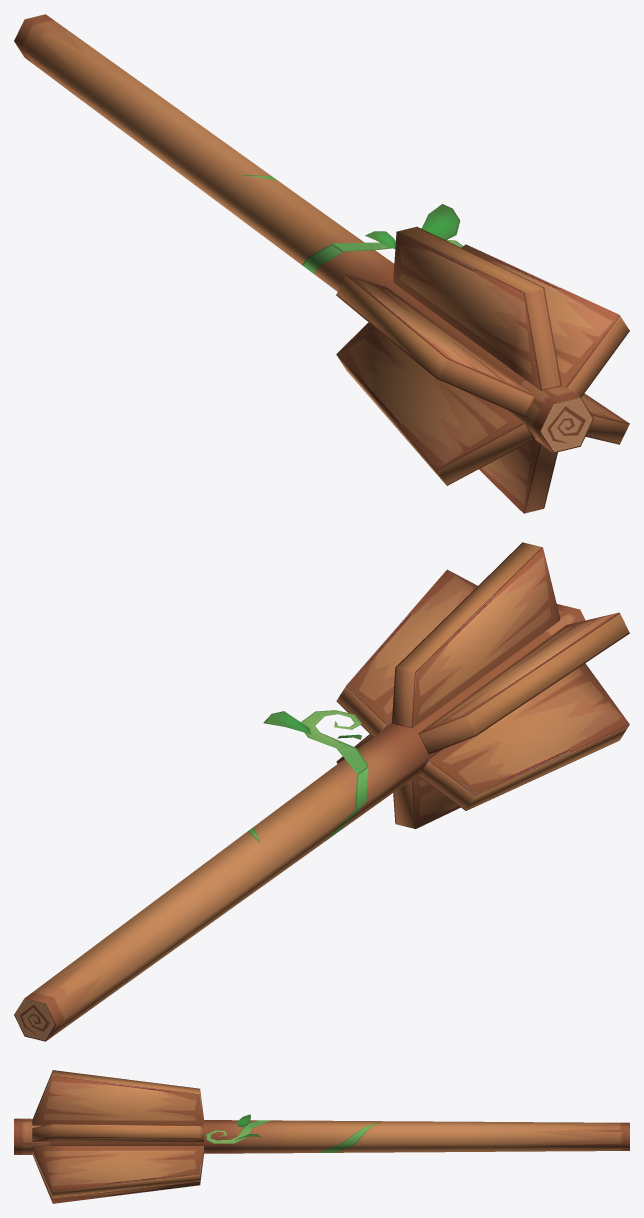
File: mace0014.fbx
The picture shows the model from 3 angles, top to bottom: view 1: azimuth 30°, elevation 25°; view 2: azimuth 150°, elevation 25°; view 3: azimuth 270°, elevation 25°; orthographic projection. The views are drawn at different scales.
Parts seen in each view (by area): view 1: mace0014; view 2: mace0014; view 3: mace0014.
Boxes of the visible parts, box(x1,y1,x2,y2) form: mace0014: box(14, 14, 629, 513); mace0014: box(14, 542, 629, 1041); mace0014: box(14, 1070, 629, 1203).
Size of the model in its own units: 0.155 by 0.1695 by 0.7394.
